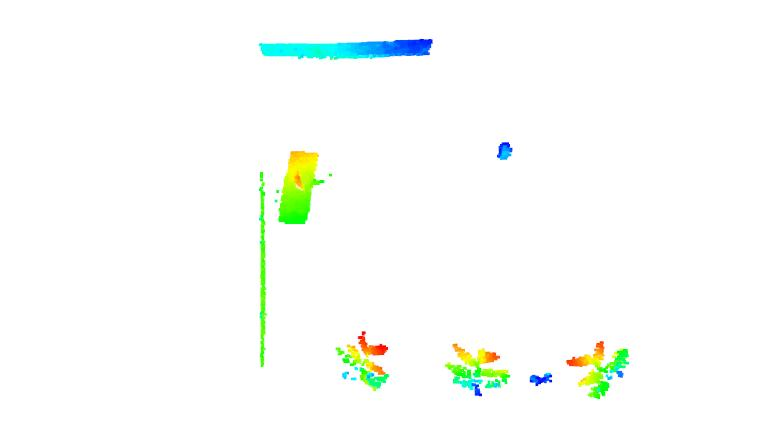chickpea: (564, 340, 630, 398), (444, 341, 510, 396), (333, 329, 391, 390)
